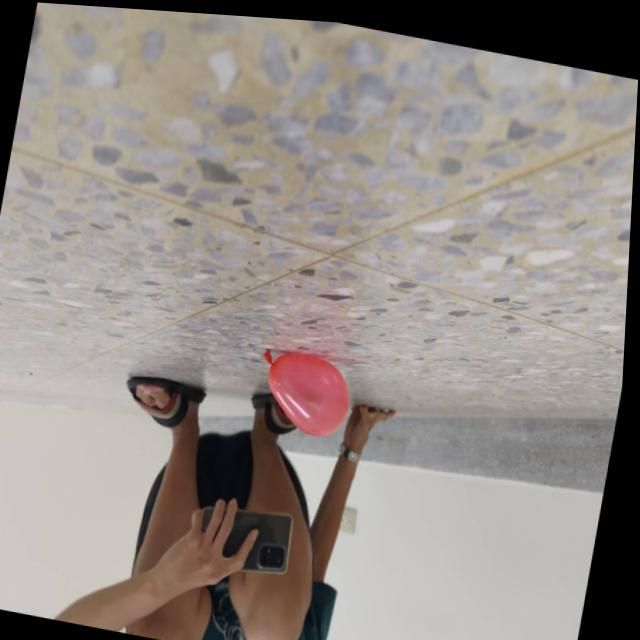red: (254, 341, 360, 438)
